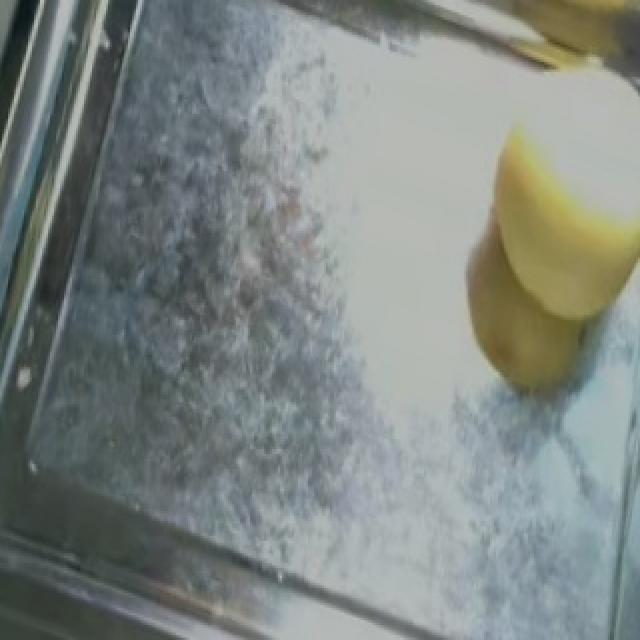Fruit: (432, 94, 640, 414)
